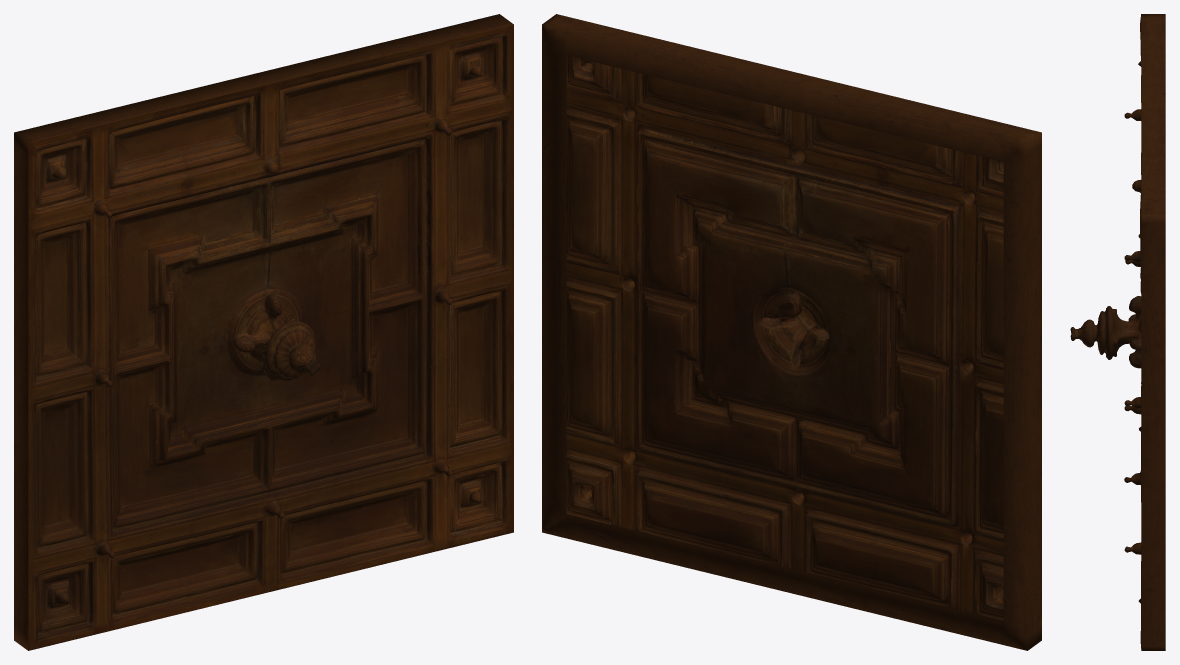
Rendered from modular_wall_6.fbx.
3 renders of one model, left to right at view 1: azimuth 30°, elevation 25°; view 2: azimuth 150°, elevation 25°; view 3: azimuth 270°, elevation 25°, orthographic. The views are drawn at different scales.
Visible parts, largest first — view 1: modular_wall_6; view 2: modular_wall_6; view 3: modular_wall_6.
Part boxes in pixels (left/top/right/bottom): modular_wall_6: left=14, top=14, right=513, bottom=650; modular_wall_6: left=542, top=14, right=1041, bottom=650; modular_wall_6: left=1070, top=14, right=1165, bottom=650.
Bounding box in the file's own units: 400 × 400 × 79.41.
